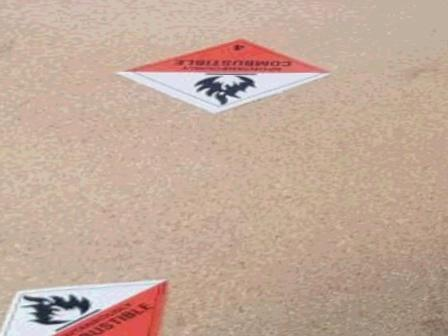spontaneously-combustible: (126, 34, 333, 117), (1, 277, 167, 336)
